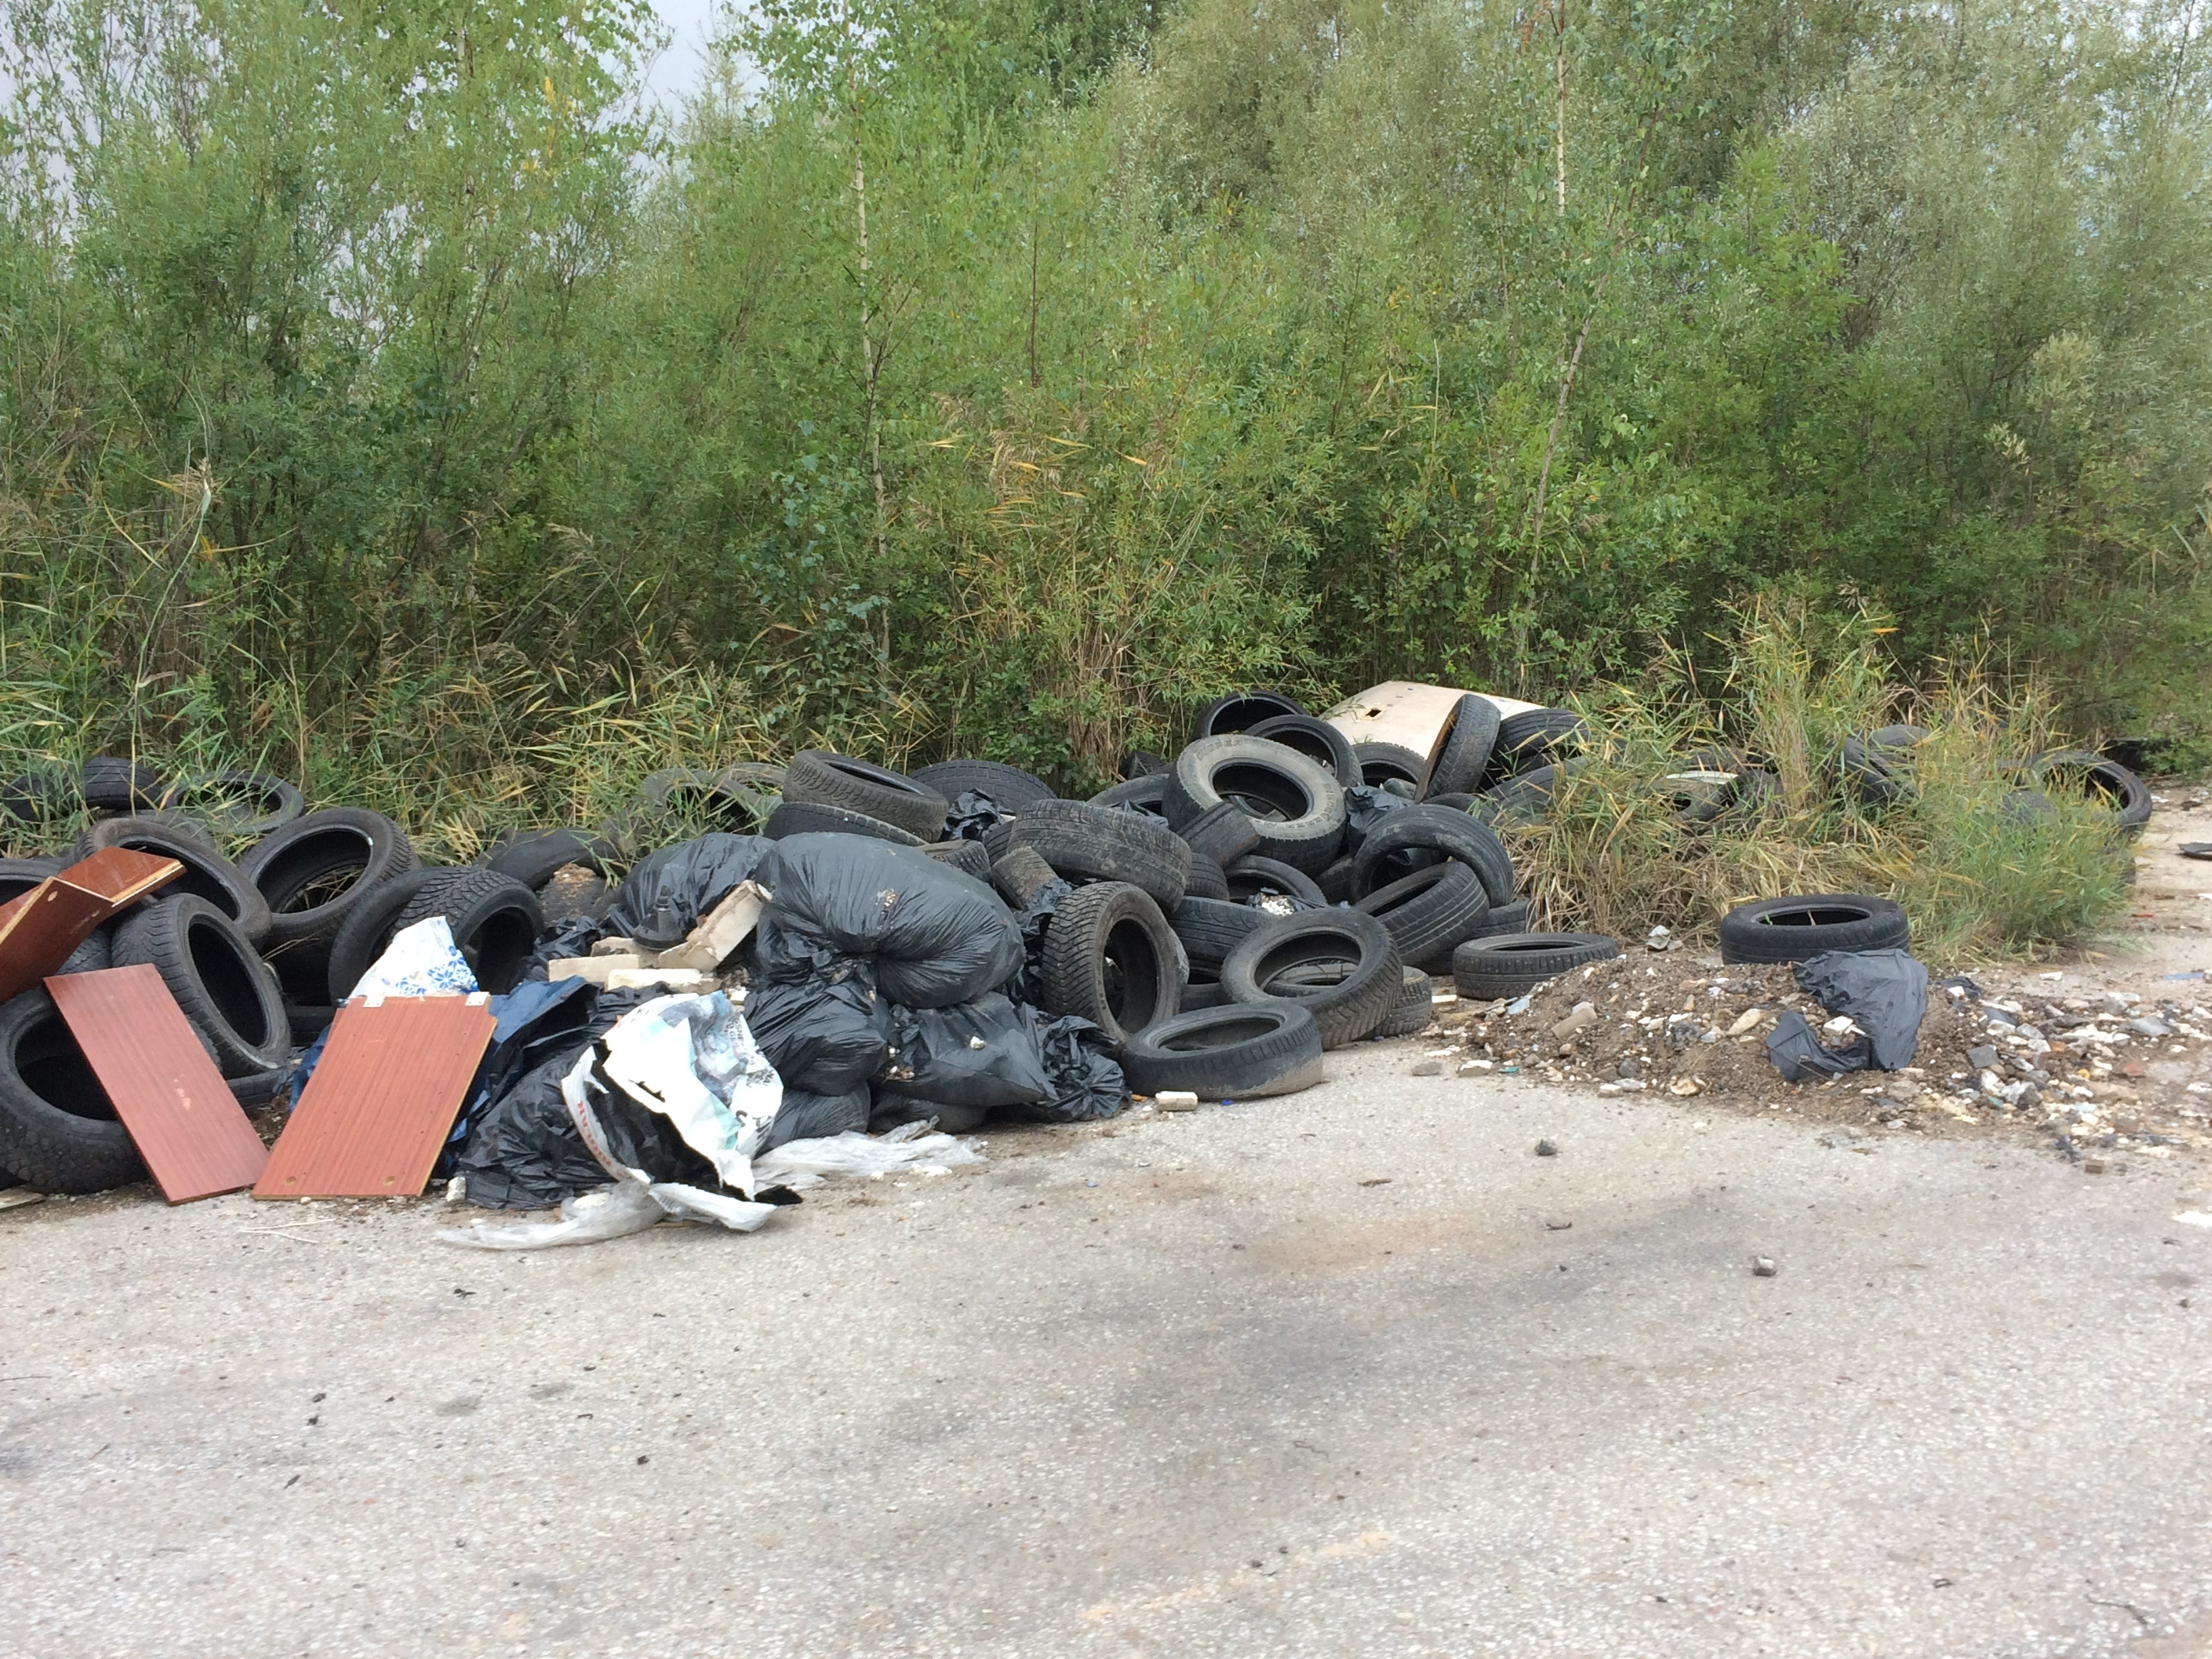trash: (0, 664, 1566, 1223), (1702, 847, 1973, 1093)
